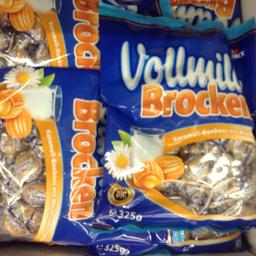candy: (100, 23, 254, 225), (0, 67, 99, 240)
